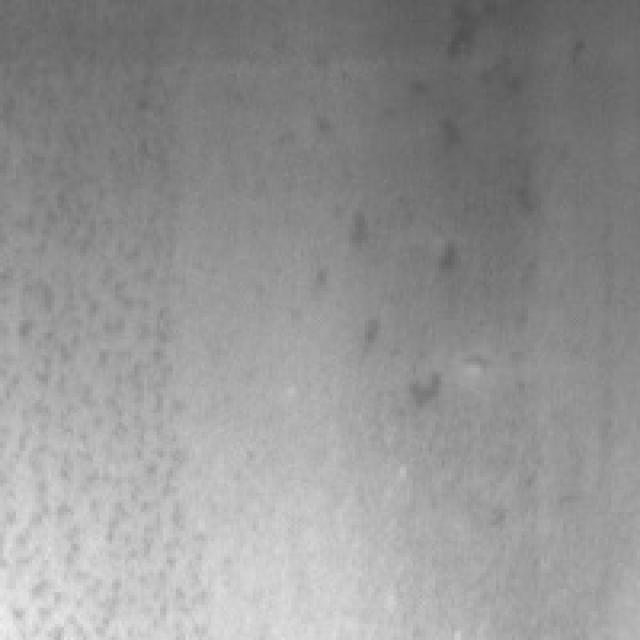pitted_surface: (3, 0, 205, 637), (311, 0, 602, 422)
